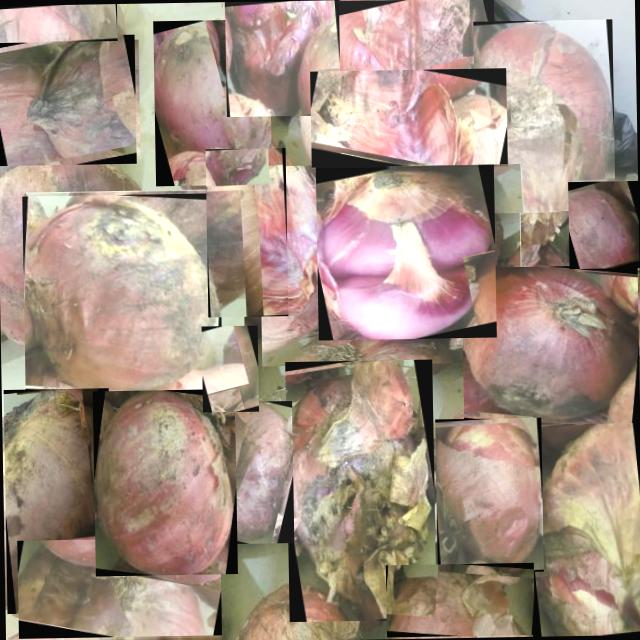rotten: (22, 193, 222, 394), (284, 359, 436, 622), (316, 165, 497, 340), (461, 265, 640, 426), (473, 20, 615, 214), (92, 388, 238, 576), (3, 388, 112, 614), (528, 418, 640, 636), (16, 537, 221, 640), (310, 68, 508, 170), (152, 19, 271, 186), (328, 0, 495, 113), (0, 34, 136, 165), (434, 417, 544, 573), (205, 148, 288, 317), (224, 0, 340, 116), (386, 562, 534, 636), (220, 401, 294, 544), (568, 180, 639, 268), (202, 325, 258, 412), (0, 3, 117, 42)
